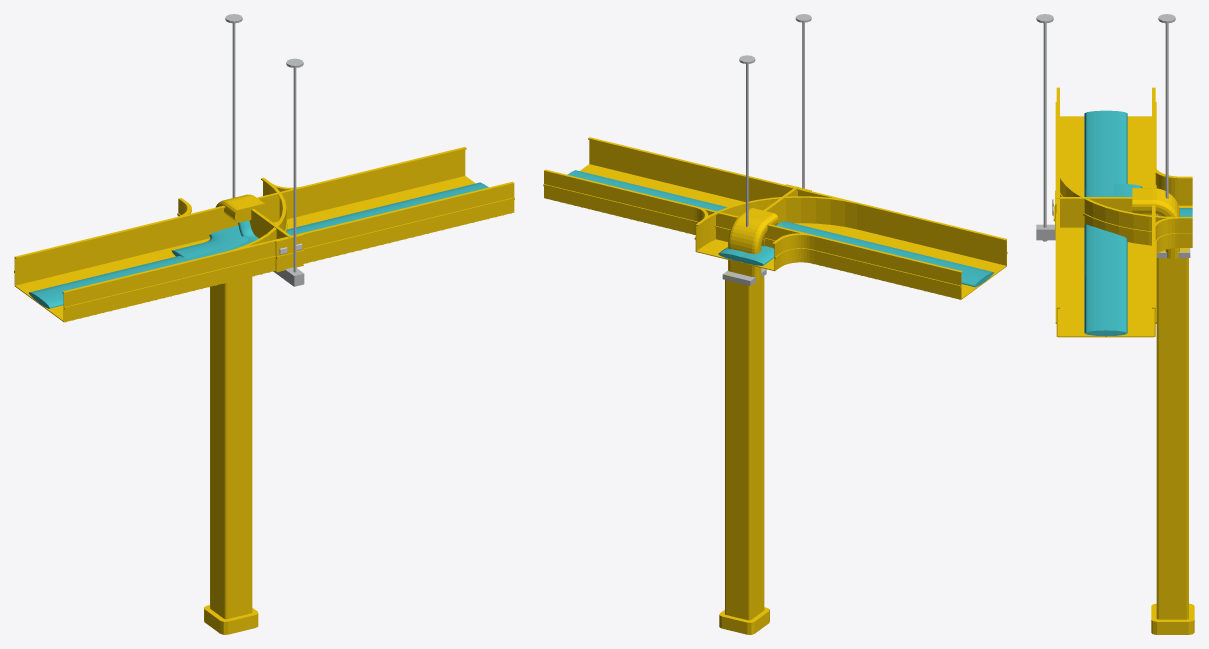
Rendered from hall_02_fiber_tray.glb.
3 views of the same model, side by side, from view 1: azimuth 30°, elevation 25°; view 2: azimuth 150°, elevation 25°; view 3: azimuth 270°, elevation 25° (orthographic). The views are drawn at different scales.
Visible parts, largest first — view 1: Channel__FR_S18, Drop_4x4__FR_W, Channel__FR_S06, FLOW_fiber__FR_S18, Channel__FR_E, Drop_Flare__FR_W, Spill_Hood__FR_W, FLOW_fiber_branch__FR_T, Rod_-1__FR_H, Sleeve__FR_C, Rod_+1__FR_H; view 2: Channel__FR_S18, Drop_4x4__FR_W, Channel__FR_E, Channel__FR_S06, FLOW_fiber__FR_S18, Spill_Hood__FR_W, Drop_Flare__FR_W, Wall_0__FR_T; view 3: Drop_4x4__FR_W, Channel__FR_S18, FLOW_fiber__FR_S18, Channel__FR_E, Cap__FR_X, Spill_Hood__FR_W, FLOW_fiber__FR_S06, Drop_Flare__FR_W, Rod_-1__FR_H, Wall_1__FR_T, Channel__FR_S06, Rod_+1__FR_H (+3 smaller).
Boxes of the visible parts, x1,y1,x2,y2 form: Channel__FR_S18: (14,147,514,322); Drop_4x4__FR_W: (210,276,252,619); Channel__FR_S06: (166,185,364,284); FLOW_fiber__FR_S18: (29,182,488,308); Channel__FR_E: (165,177,287,285); Drop_Flare__FR_W: (204,605,258,634); Spill_Hood__FR_W: (215,194,267,222); FLOW_fiber_branch__FR_T: (171,227,234,258); Rod_-1__FR_H: (293,68,296,272); Sleeve__FR_C: (274,234,304,272); Rod_+1__FR_H: (232,23,235,197); Channel__FR_S18: (543,137,1007,299); Drop_4x4__FR_W: (725,268,764,620); Channel__FR_E: (694,196,867,270); Channel__FR_S06: (683,171,867,265); FLOW_fiber__FR_S18: (567,170,993,287); Spill_Hood__FR_W: (728,208,778,281); Drop_Flare__FR_W: (719,607,769,634); Wall_0__FR_T: (728,174,858,206); Drop_4x4__FR_W: (1156,248,1188,619); Channel__FR_S18: (1055,87,1156,336); FLOW_fiber__FR_S18: (1084,110,1127,336); Channel__FR_E: (1055,161,1192,247); Cap__FR_X: (1055,197,1151,227); Spill_Hood__FR_W: (1132,188,1179,258); FLOW_fiber__FR_S06: (1084,184,1127,258); Drop_Flare__FR_W: (1151,603,1194,634); Rod_-1__FR_H: (1043,23,1046,227); Wall_1__FR_T: (1155,217,1192,253); Channel__FR_S06: (1055,162,1156,262); Rod_+1__FR_H: (1165,23,1168,198).
Size of the model in its own units: 1.8 by 2.32 by 0.547.
